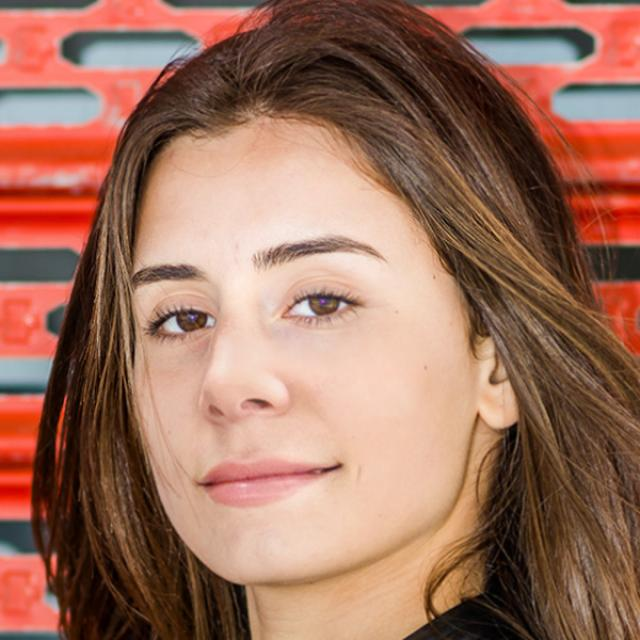face: (81, 32, 583, 578)
